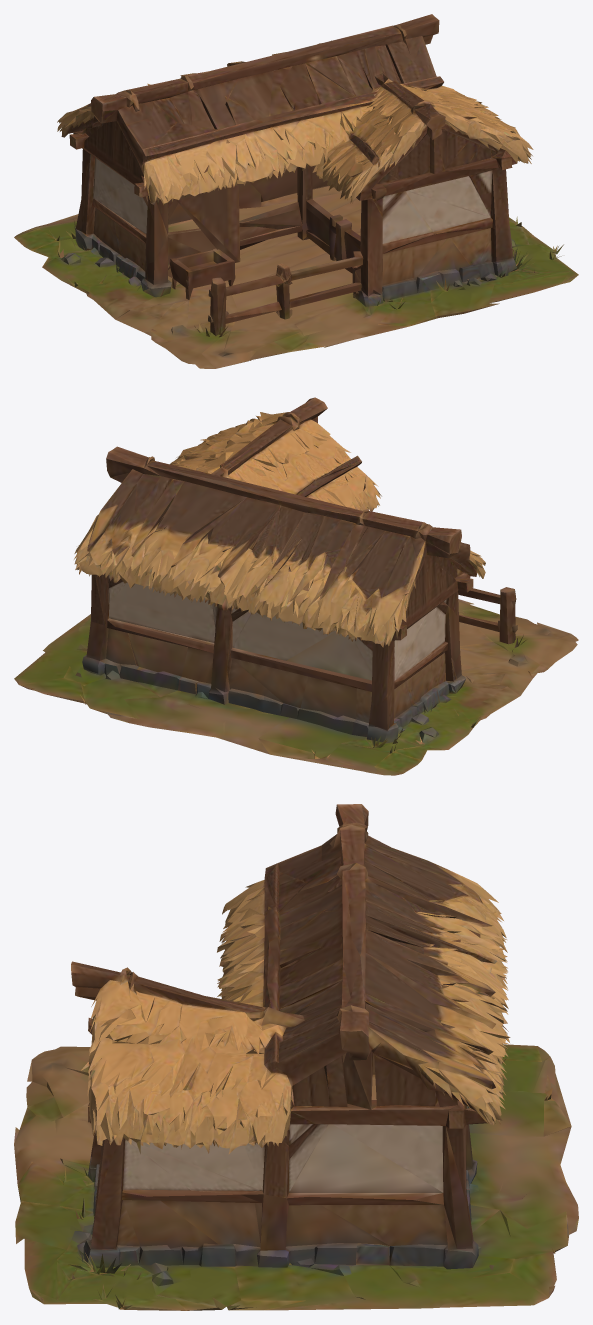
File: stable.glb
3 renders of one model, top to bottom at view 1: azimuth 30°, elevation 25°; view 2: azimuth 150°, elevation 25°; view 3: azimuth 270°, elevation 25°, orthographic. The views are drawn at different scales.
Size of the model in its own units: 1.89 by 0.8208 by 1.64.
1 material, 1 textured.
